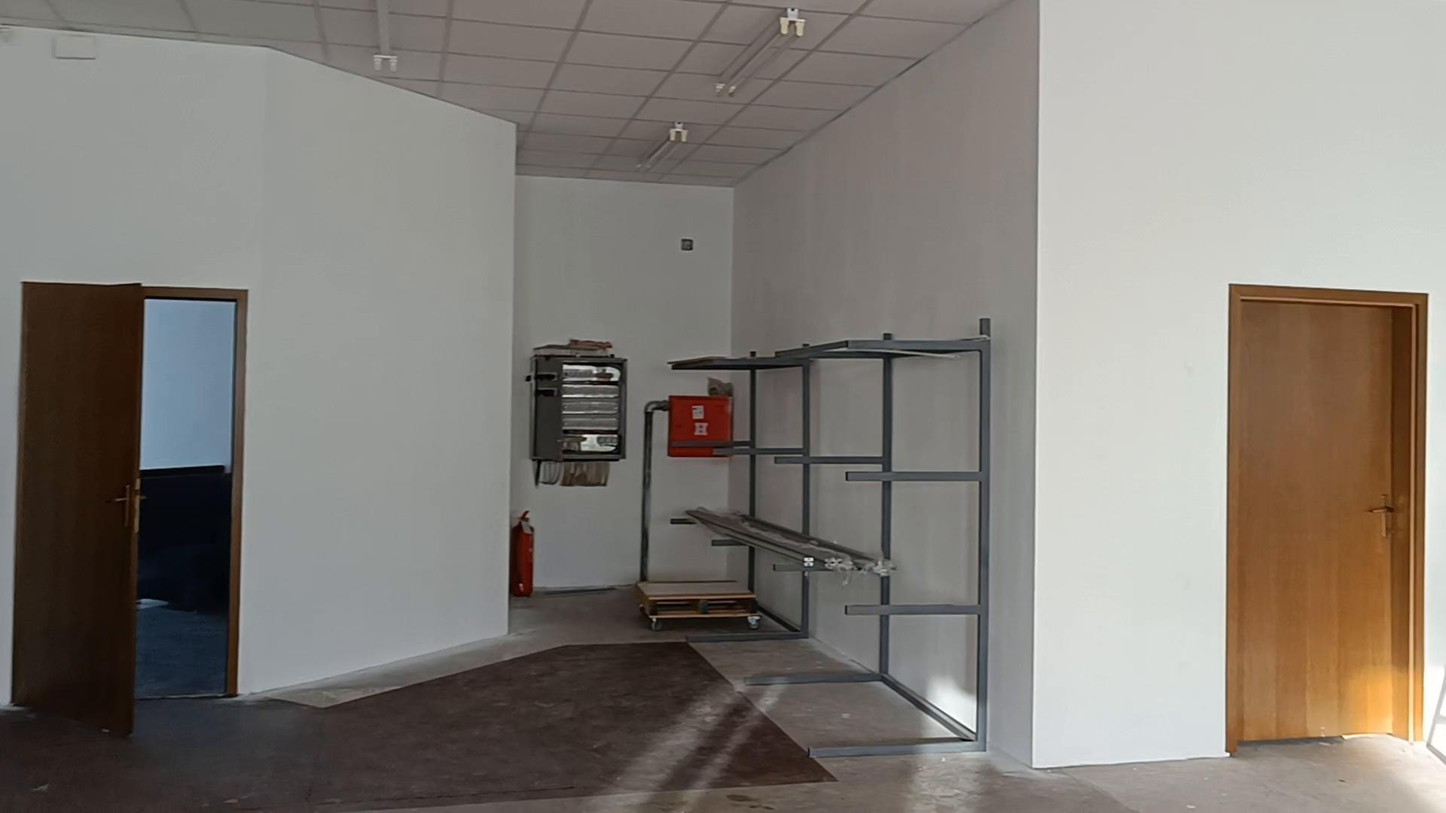ceiling: (0, 0, 1009, 186)
floor: (0, 589, 1445, 812)
wall: (0, 0, 1445, 765), (885, 493, 969, 610), (889, 621, 973, 713), (900, 371, 974, 459), (807, 577, 881, 661), (815, 366, 874, 455), (763, 383, 797, 440), (763, 464, 798, 519)
